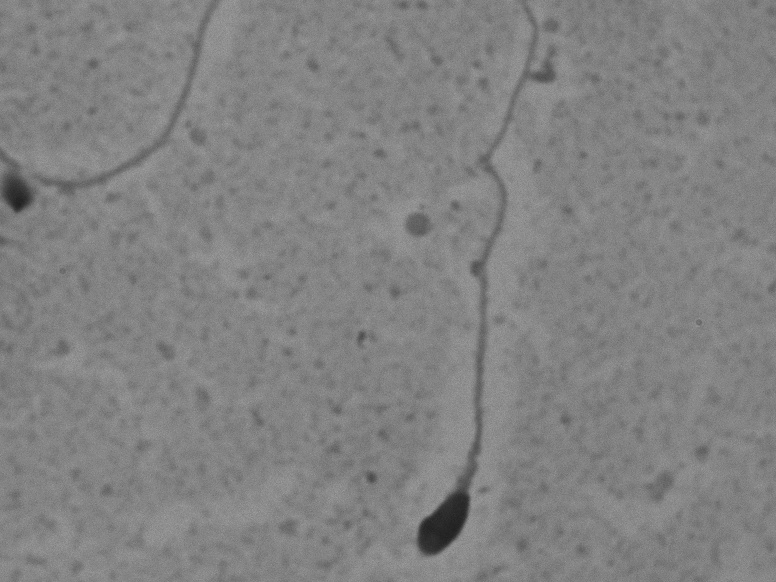Abnormal: (368, 10, 578, 563)
